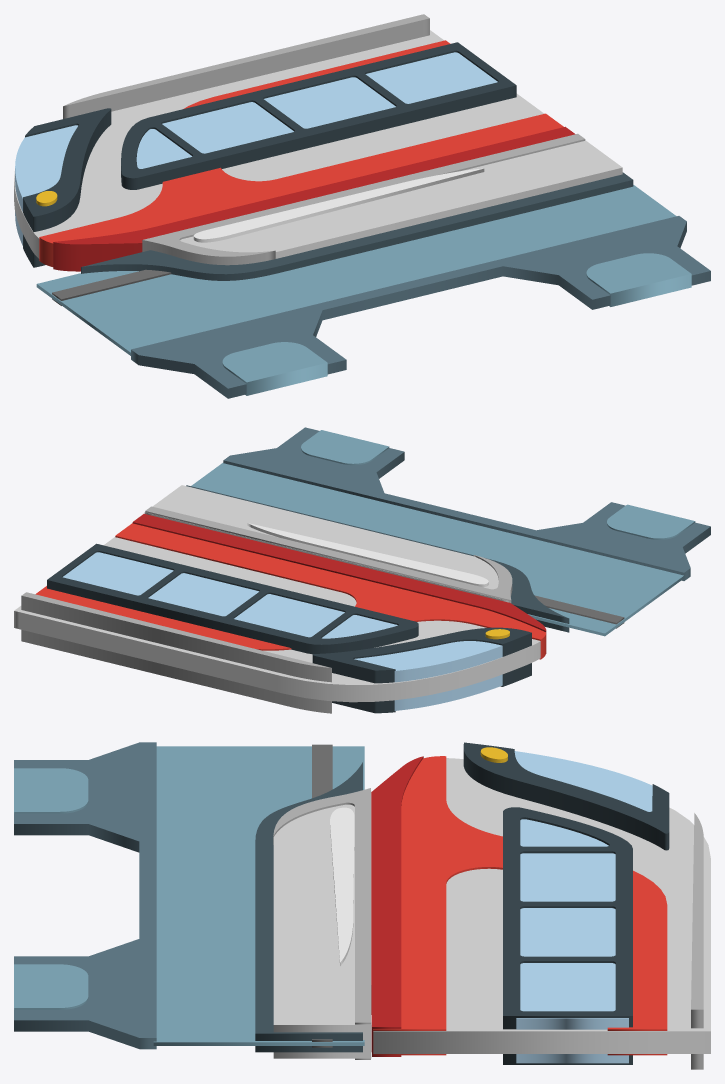
File: emoji_u1f69d.glb
3 views of the same model, one above another, from view 1: azimuth 30°, elevation 25°; view 2: azimuth 150°, elevation 25°; view 3: azimuth 270°, elevation 25° (orthographic). The views are drawn at different scales.
Visible parts, largest first — view 1: emoji_u1f69d; view 2: emoji_u1f69d; view 3: emoji_u1f69d.
Boxes of the visible parts, <box> form: emoji_u1f69d: <box>14,14,710,398</box>; emoji_u1f69d: <box>14,427,710,713</box>; emoji_u1f69d: <box>14,742,710,1069</box>.
Size of the model in its own units: 0.0339 by 0.0034 by 0.0337.
